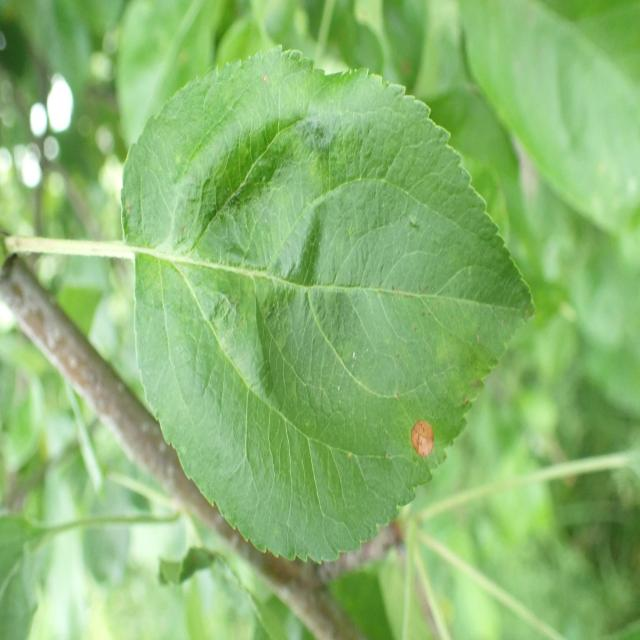frog-eye-leaf-spot: (121, 44, 537, 564)
